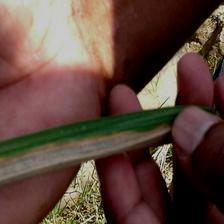2 BacterialBlight: (20, 126, 190, 161)
